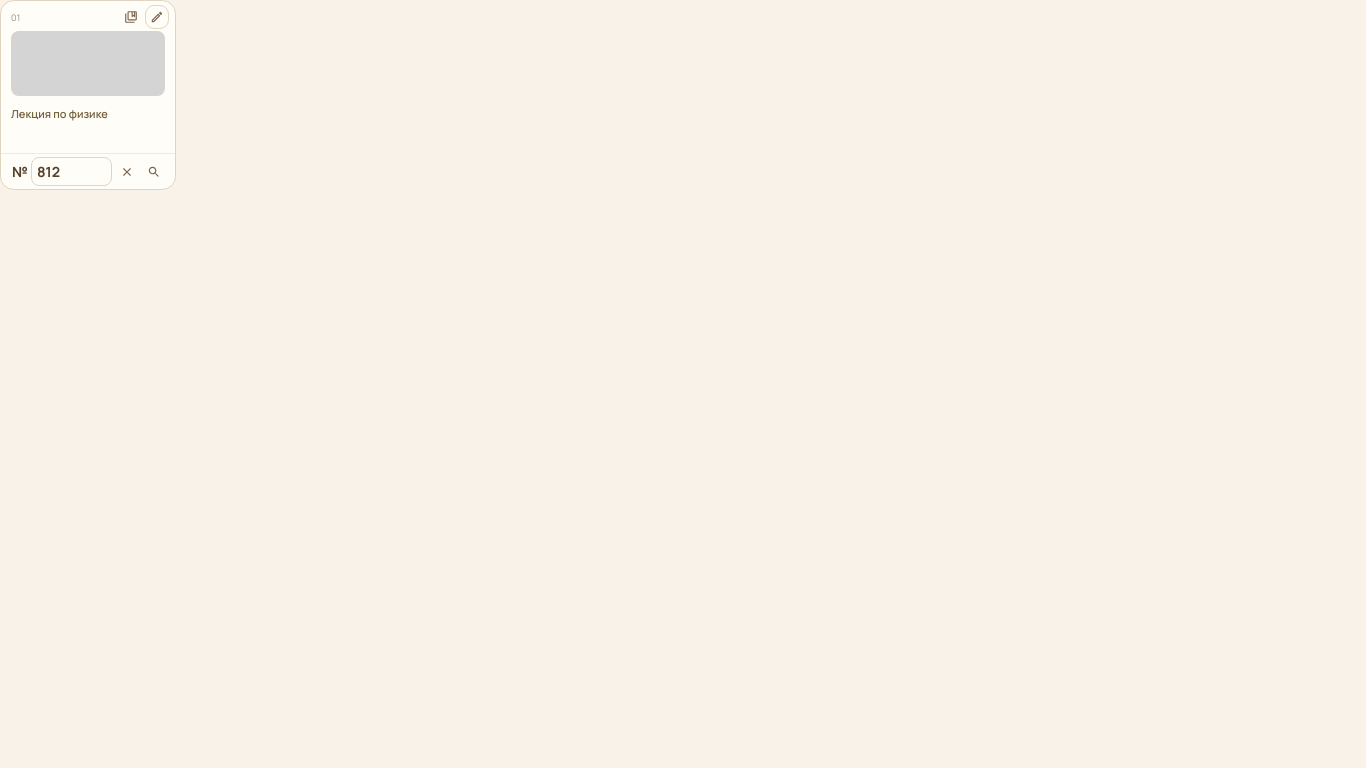
it: pasting comma-separated IDs opens only the group dialog and applies a normalized list
Replace the text in the field labelled "№" with "812, 813, 814" at (72, 172), box [31,157,112,186]
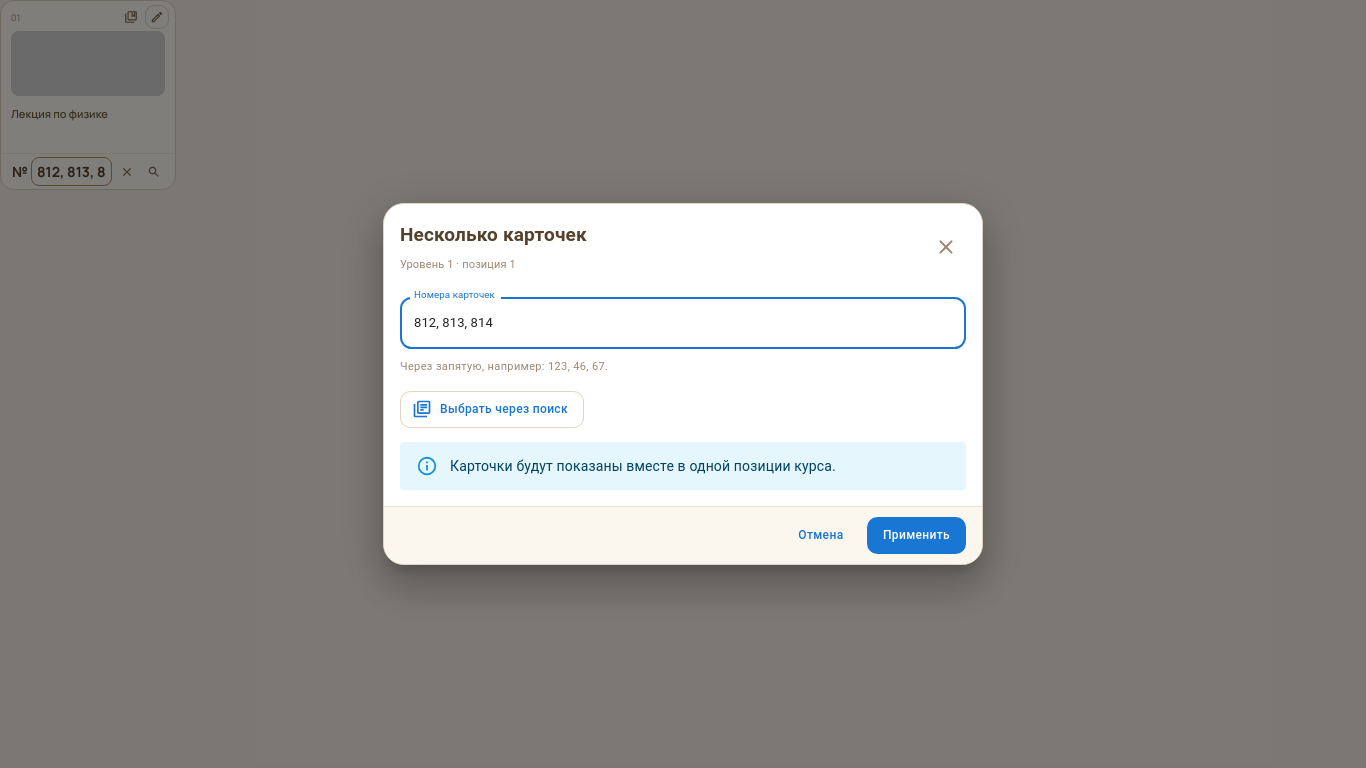
Expected: the dialog is shown, [383,203,983,565]
Expected: the dialog shows "Несколько карточек", [400,223,587,246]
Expected: the field labelled "Номера карточек" holds "812, 813, 814", [400,297,966,349]
Click the button "Применить".
click(916, 535)  # box [867,517,966,554]
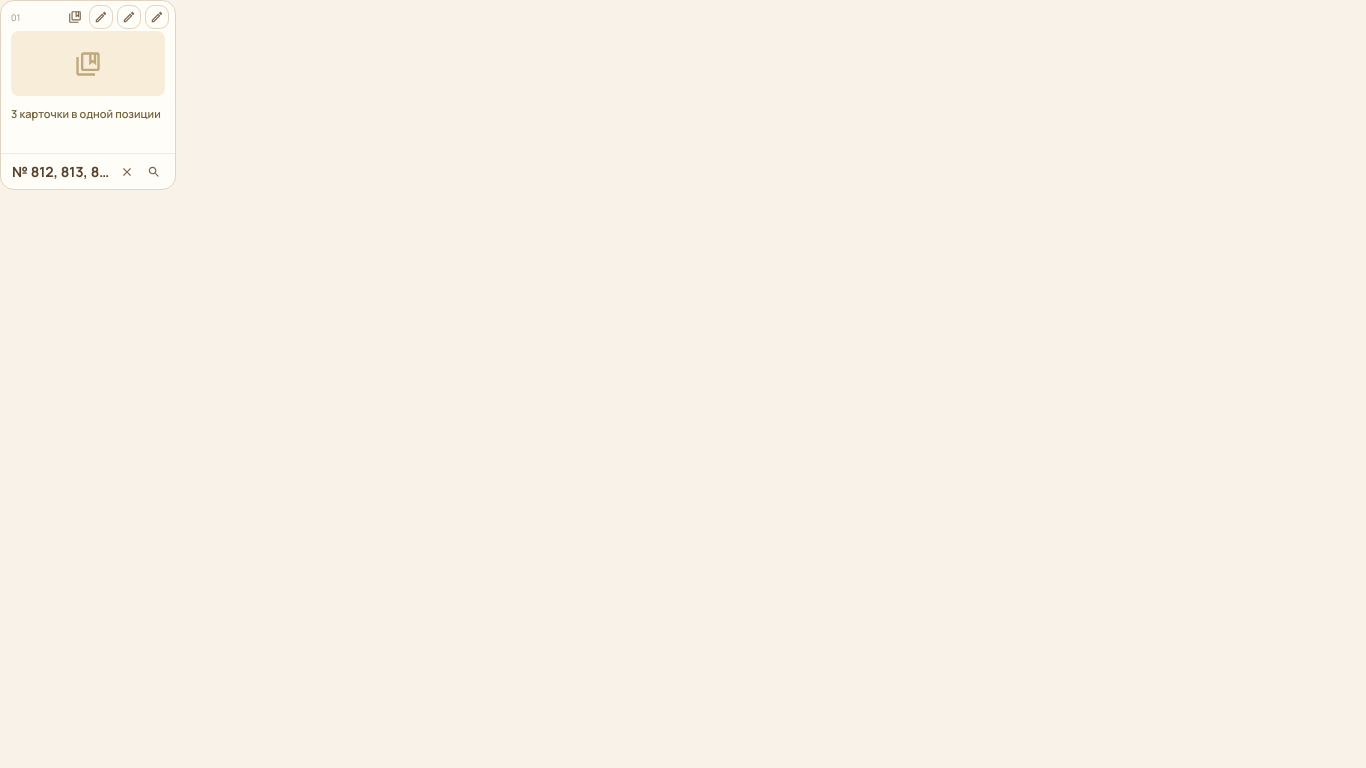
Expected: the button with class "sw-coedit-group-ids" reads "№ 812, 813, 814", [12,157,112,186]
